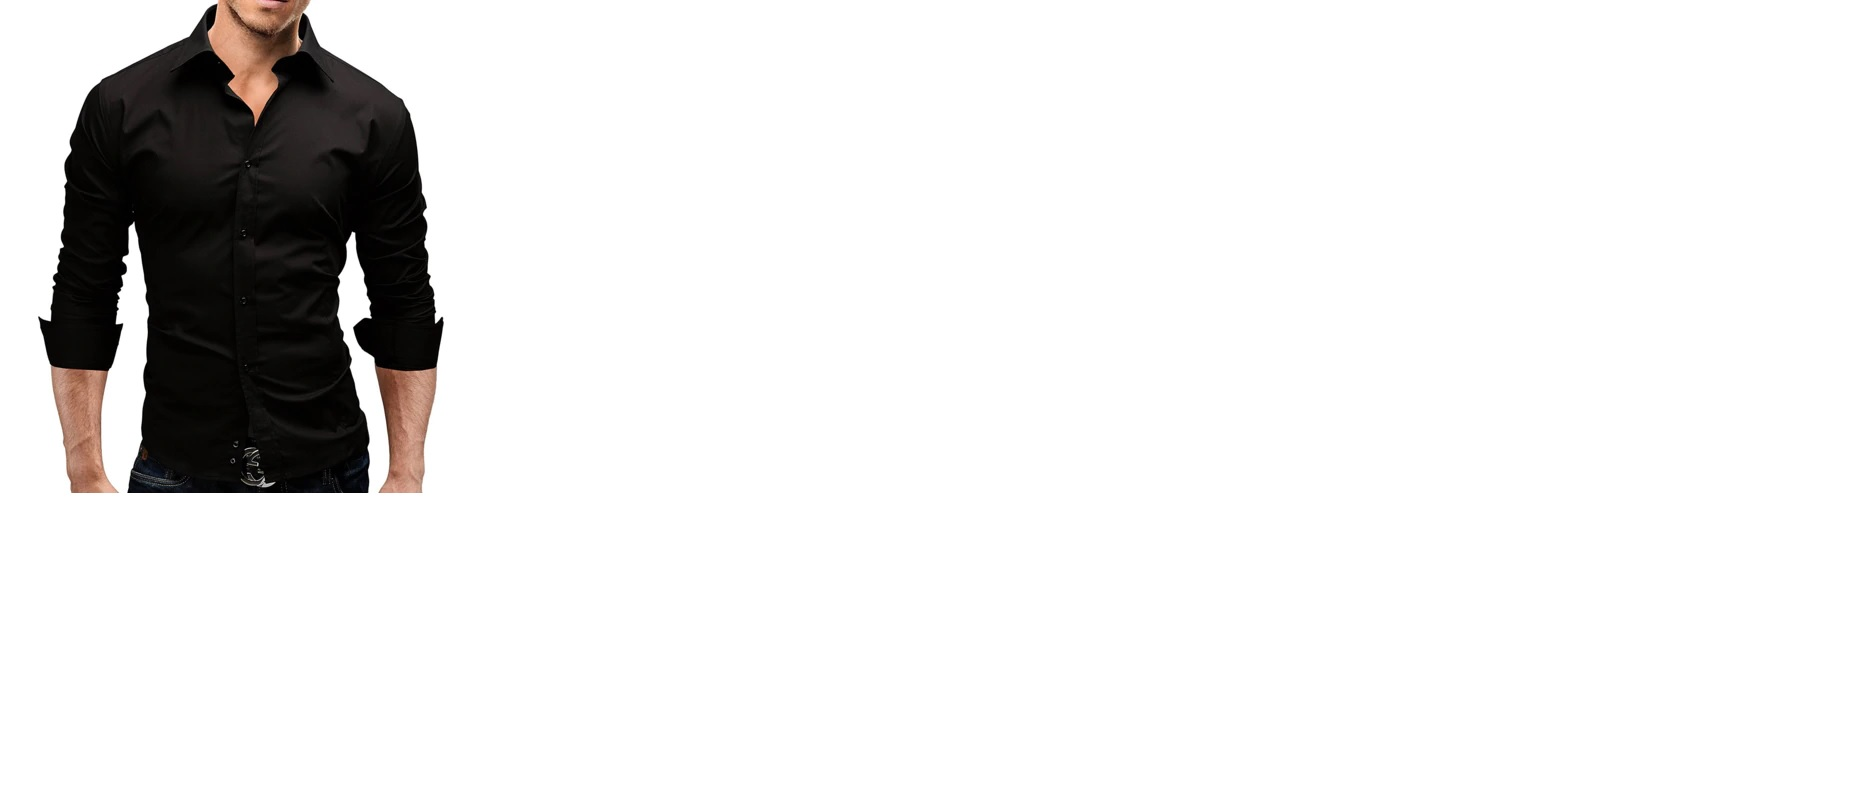Shirt: (29, 10, 482, 499)
